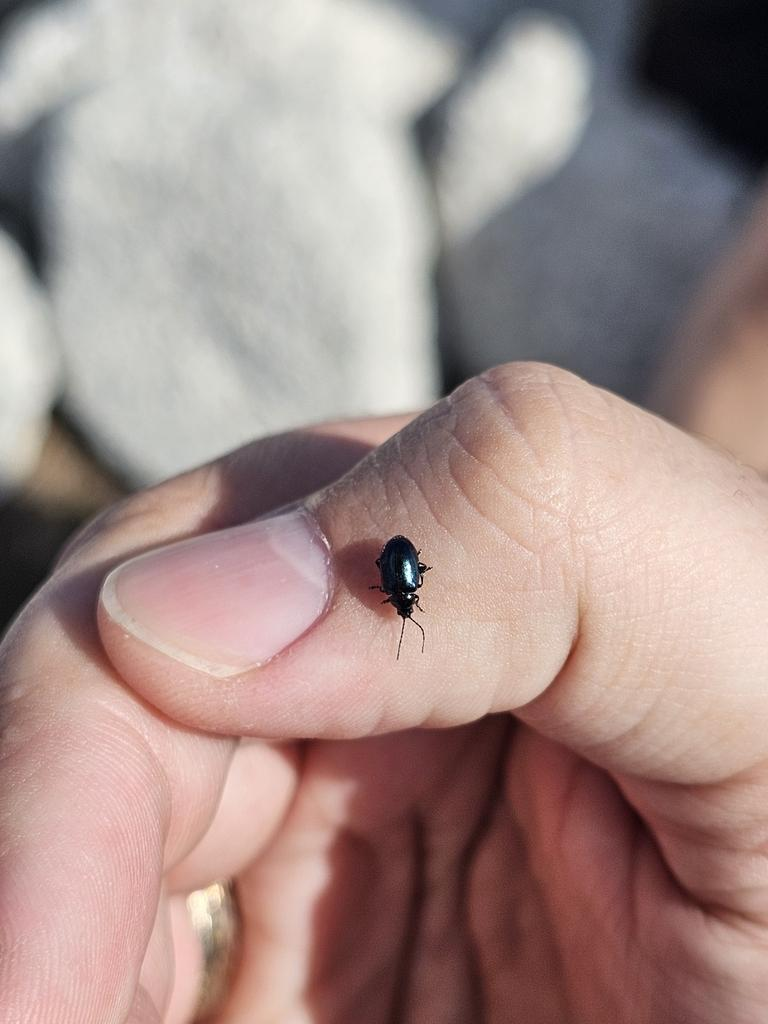flea_beetle: (333, 518, 469, 670)
